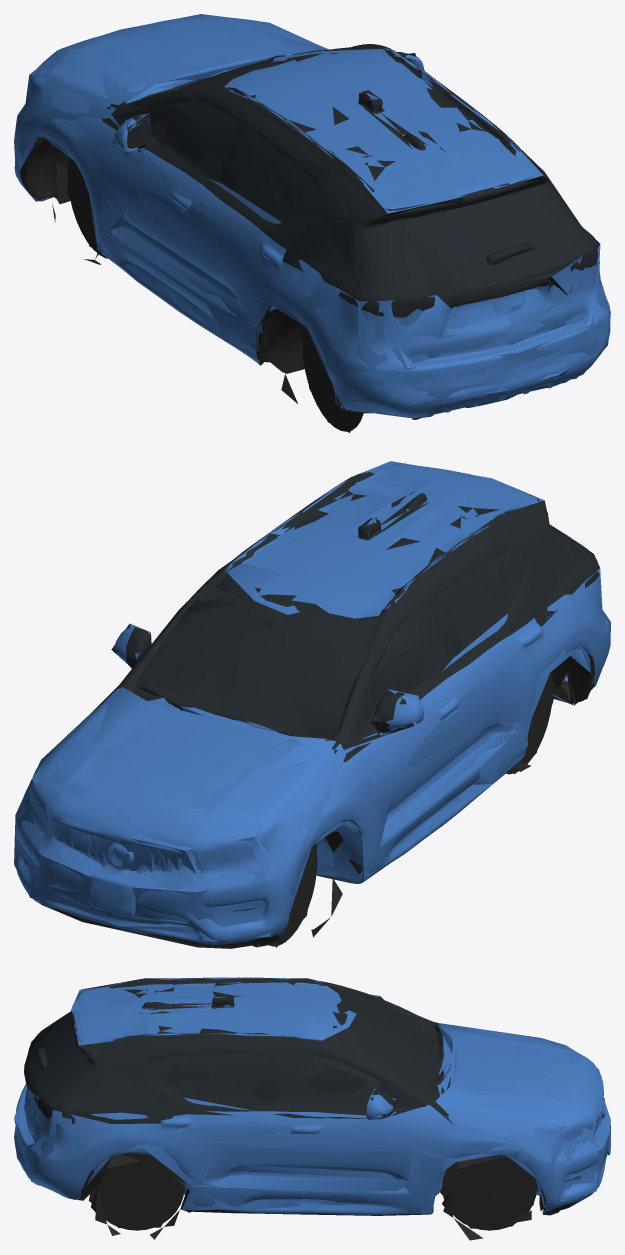
Rendered from volvo-ex40.glb.
3 views of the same model, one above another, from view 1: azimuth 30°, elevation 25°; view 2: azimuth 150°, elevation 25°; view 3: azimuth 270°, elevation 25° (orthographic). The views are drawn at different scales.
Parts seen in each view (by area): view 1: body, far; view 2: body, far; view 3: body, far.
Boxes of the visible parts, <box> form: body: <box>14,15,610,431</box>; far: <box>14,14,610,432</box>; body: <box>15,463,609,948</box>; far: <box>14,461,610,947</box>; body: <box>14,977,610,1240</box>; far: <box>14,978,609,1228</box>.
Size of the model in its own units: 1.98 by 1.67 by 4.5.
